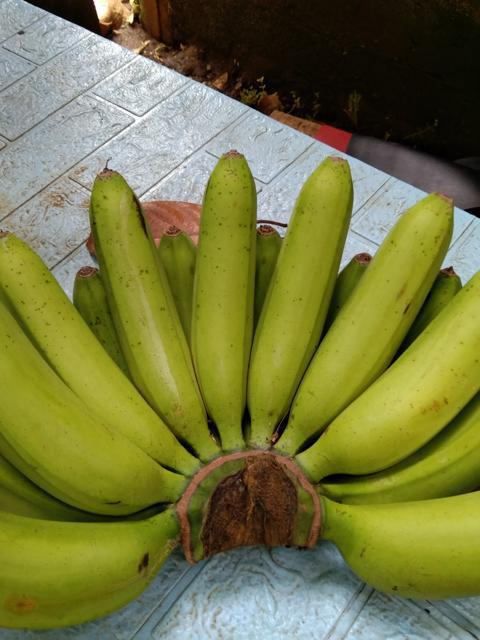freshunripe: (284, 188, 453, 441), (294, 260, 479, 490), (0, 296, 170, 517), (248, 149, 361, 445), (0, 505, 187, 632), (191, 142, 271, 425), (319, 484, 479, 611)
unripe: (82, 157, 223, 451)
